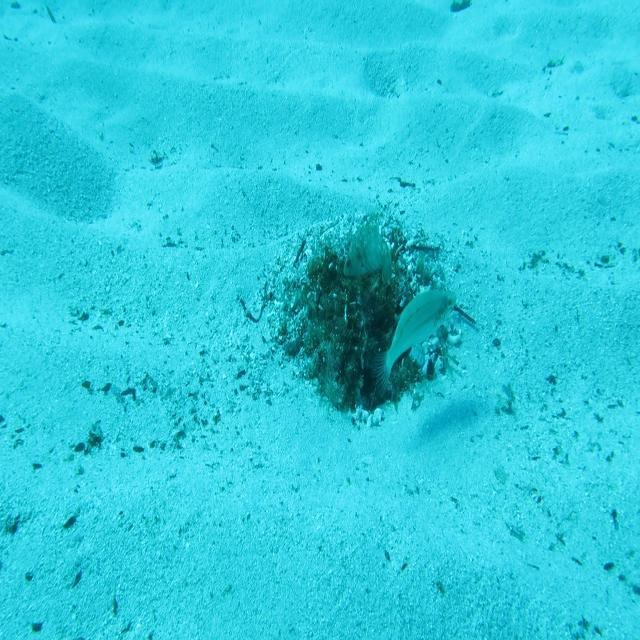INSF: (341, 209, 394, 287)
core_nest: (335, 266, 386, 326)
female: (370, 288, 458, 402)
nest: (262, 202, 475, 442)
vegetation: (449, 0, 474, 17)
